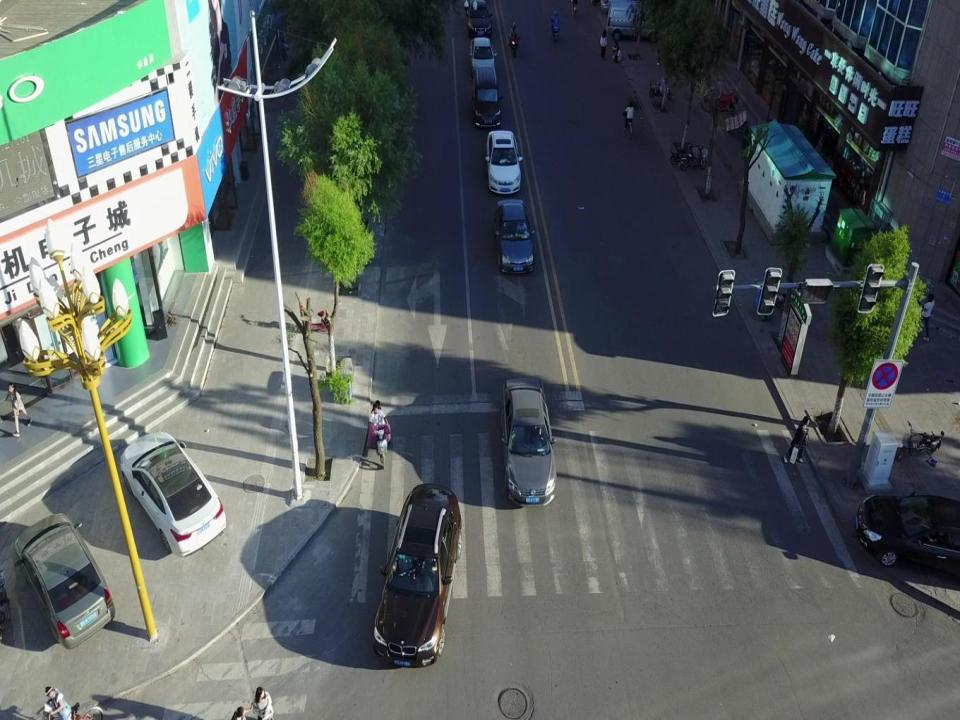car: (372, 482, 461, 667), (13, 512, 116, 649), (118, 432, 226, 556), (856, 489, 958, 575), (500, 376, 556, 507), (495, 198, 534, 274), (486, 130, 522, 193), (472, 66, 503, 128), (470, 37, 496, 75), (466, 0, 492, 36)
van: (607, 2, 662, 41)
